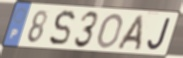3: (73, 10, 99, 50)
8: (26, 9, 48, 44)
A: (115, 14, 144, 52)
J: (147, 16, 172, 51)
O: (96, 12, 124, 50)
S: (48, 9, 77, 48)
